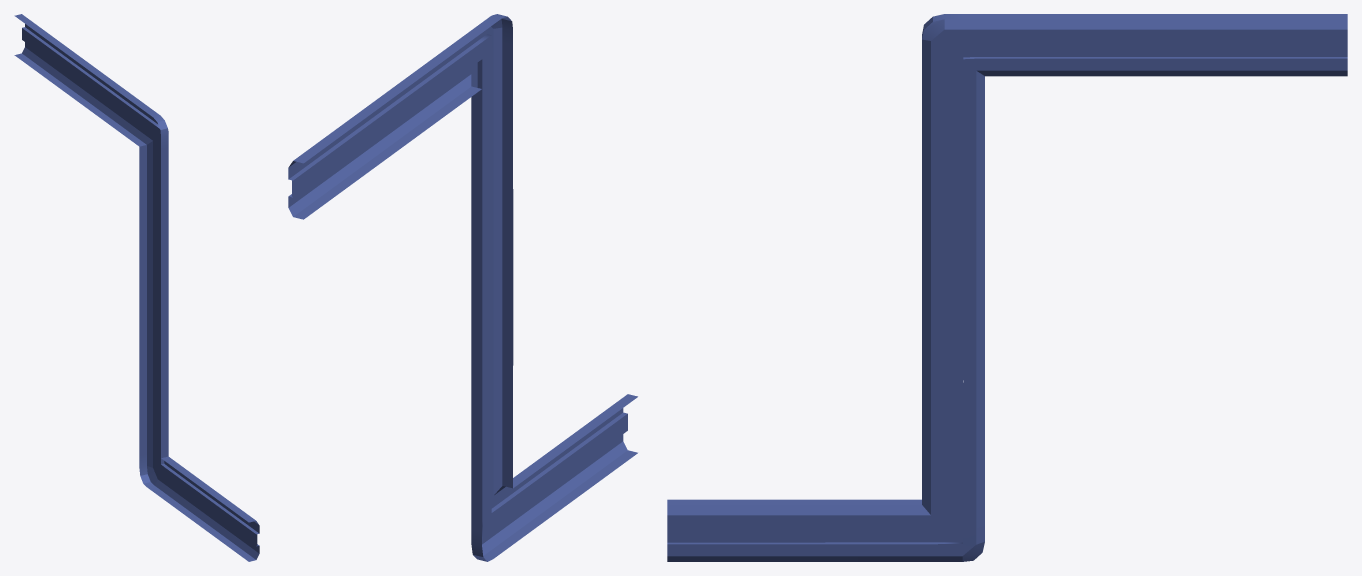
Rendered from ligne_technologique_A1.fbx.
3 views of the same model, side by side, from view 1: azimuth 30°, elevation 25°; view 2: azimuth 150°, elevation 25°; view 3: azimuth 270°, elevation 25° (orthographic). The views are drawn at different scales.
Parts seen in each view (by area): view 1: ligne_techno_A1; view 2: ligne_techno_A1; view 3: ligne_techno_A1.
Boxes of the visible parts, x1,y1,x2,y2 form: ligne_techno_A1: (14,14,259,561); ligne_techno_A1: (288,14,637,561); ligne_techno_A1: (667,14,1347,561).
Bounding box in the file's own units: 9.34 × 313 × 355.
